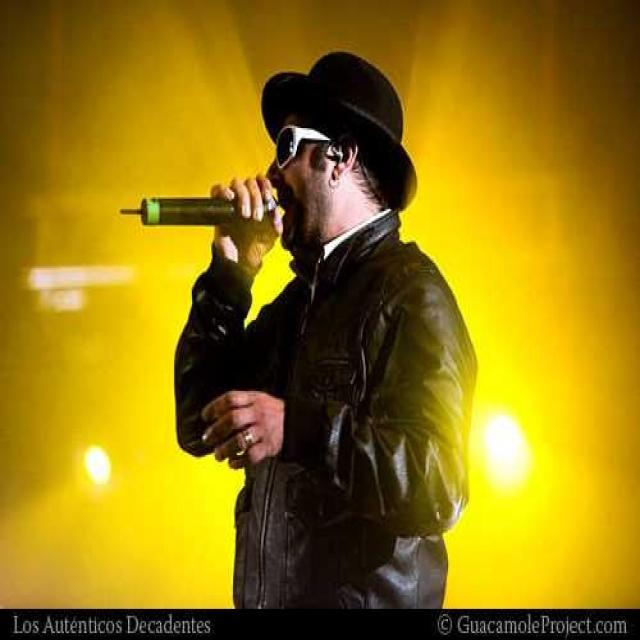microphone: (125, 193, 279, 234)
